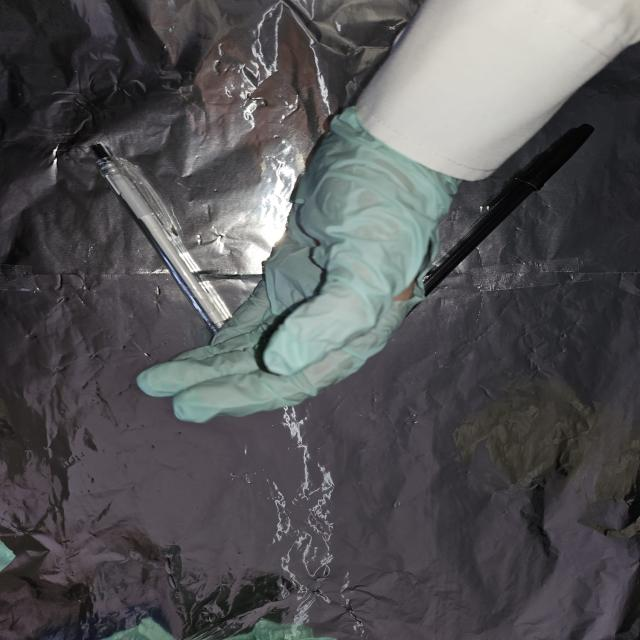gloves_damaged: (135, 107, 464, 424)
